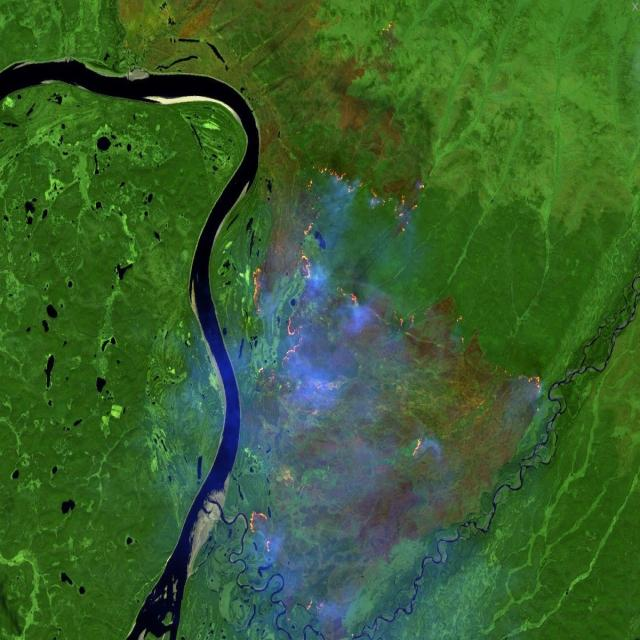fire: (243, 151, 546, 578)
